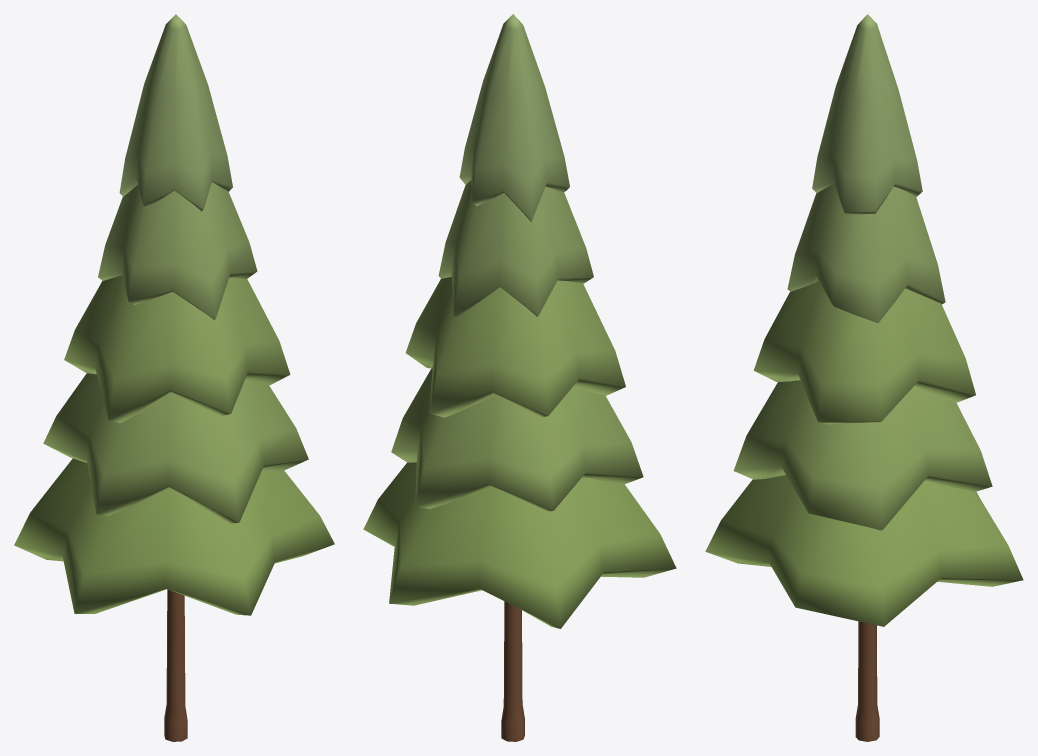
The model's file is larch.glb.
3 renders of one model, left to right at view 1: azimuth 30°, elevation 25°; view 2: azimuth 150°, elevation 25°; view 3: azimuth 270°, elevation 25°, orthographic.
Visible parts, largest first — view 1: body; view 2: body; view 3: body.
Part boxes in pixels (<box>): body: <box>14,14,334,741</box>; body: <box>363,14,676,741</box>; body: <box>705,14,1023,741</box>.
Size of the model in its own units: 4.9 by 12.34 by 4.93.
